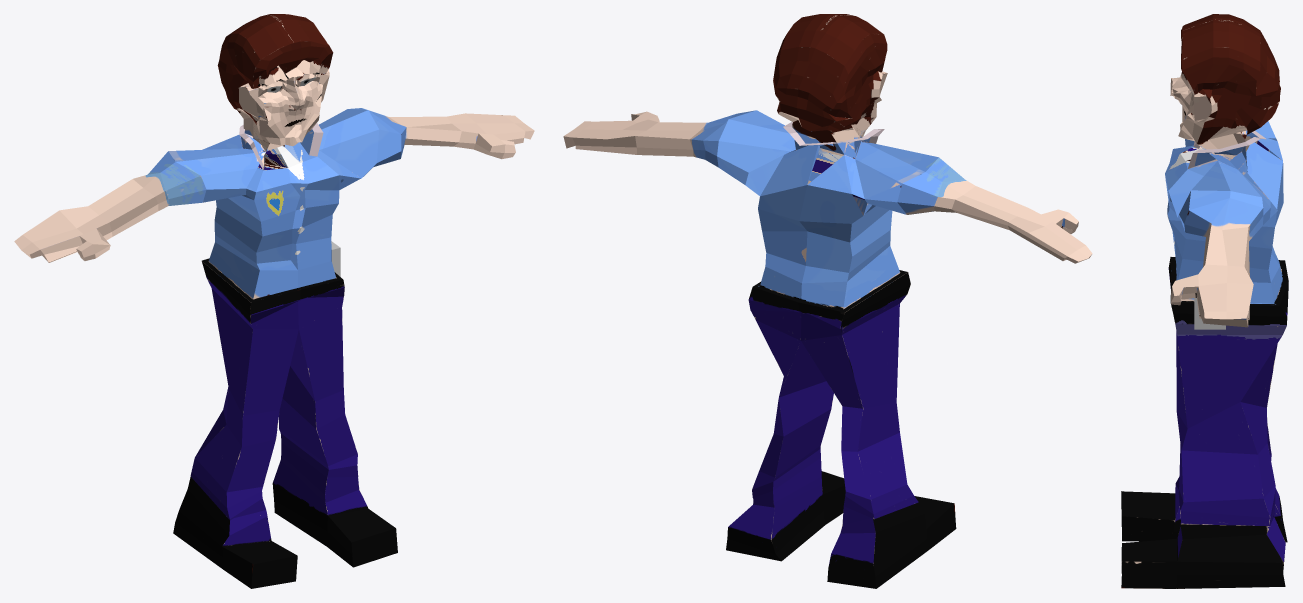
The model's file is NUEVO POLI.fbx.
3 views of the same model, side by side, from view 1: azimuth 30°, elevation 25°; view 2: azimuth 150°, elevation 25°; view 3: azimuth 270°, elevation 25° (orthographic). The views are drawn at different scales.
Parts seen in each view (by area): view 1: Vert; view 2: Vert; view 3: Vert, Cube.
Boxes of the visible parts, x1=… form: Vert: x1=14, y1=14, x2=534, y2=588; Vert: x1=563, y1=14, x2=1092, y2=588; Vert: x1=1121, y1=14, x2=1288, y2=588; Cube: x1=1194, y1=298, x2=1225, y2=329.
Bounding box in the file's own units: 446 × 441 × 125.
